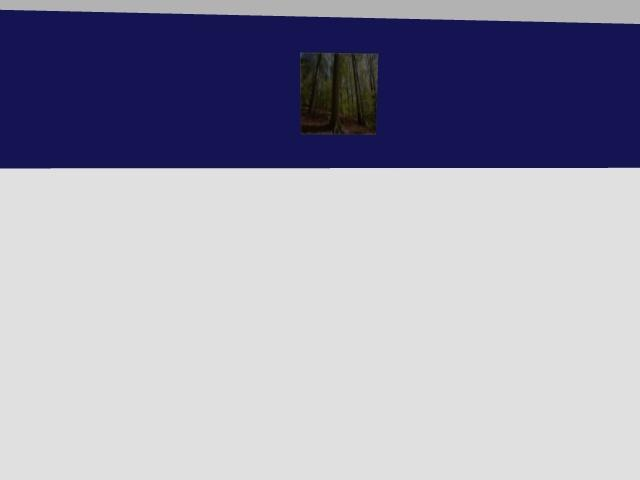tree: (351, 54, 363, 124), (329, 53, 339, 133), (309, 53, 321, 114), (368, 54, 376, 96)
